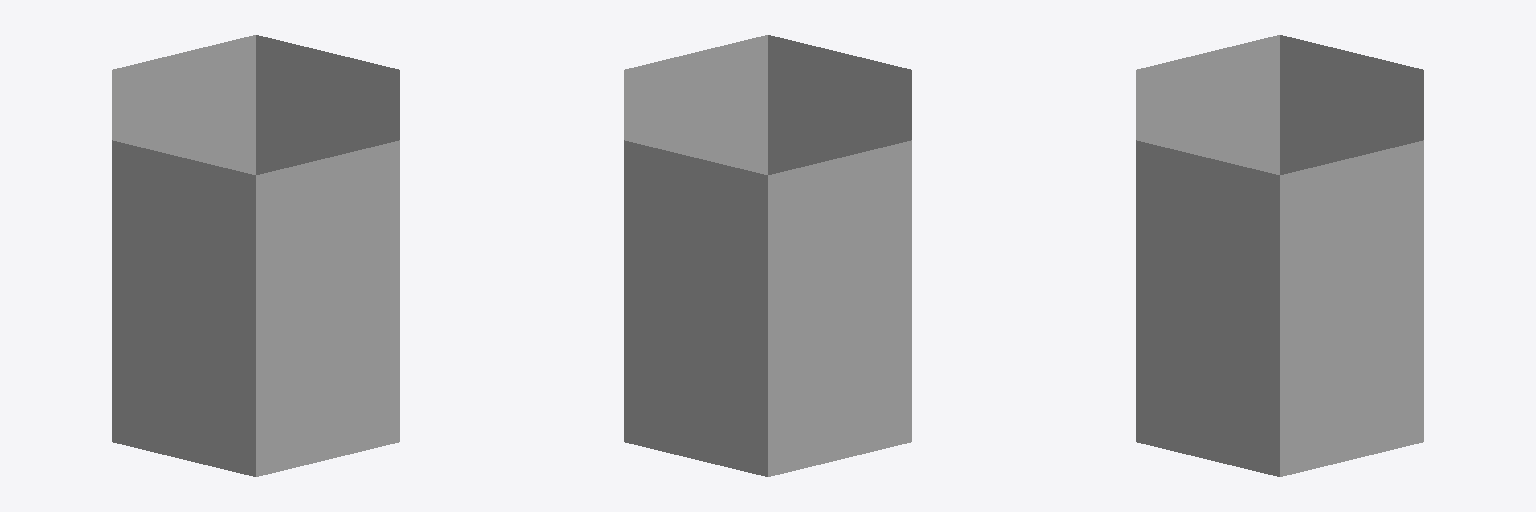
File: Hexagon_With_Volume.obj
The picture shows the model from 3 angles: view 1: azimuth 30°, elevation 25°; view 2: azimuth 150°, elevation 25°; view 3: azimuth 270°, elevation 25°; orthographic projection.
Parts seen in each view (by area): view 1: Cylinder001; view 2: Cylinder001; view 3: Cylinder001.
Part boxes in pixels (bbox=[...]): Cylinder001: bbox=[112, 35, 399, 476]; Cylinder001: bbox=[624, 35, 911, 476]; Cylinder001: bbox=[1136, 35, 1423, 476].
Size of the model in its own units: 1 by 1 by 0.866.